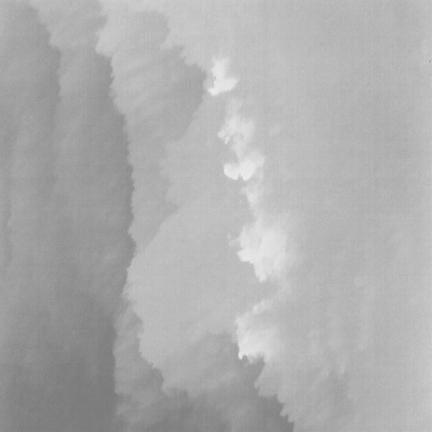flukeprints: (237, 212, 288, 281), (218, 105, 255, 143), (208, 57, 238, 95), (224, 156, 263, 181)
